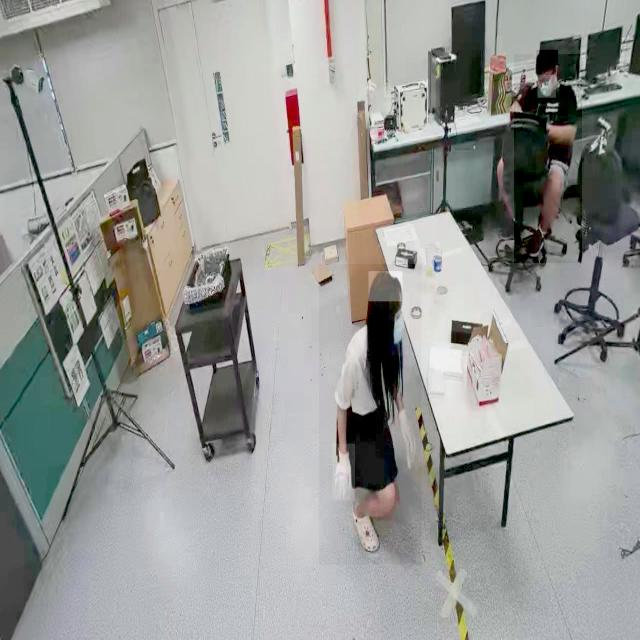face_mask: (389, 292, 409, 356), (537, 74, 556, 98)
hand_glove: (397, 398, 417, 473), (332, 444, 355, 502)
head_nohelmet: (368, 271, 402, 302), (536, 50, 558, 64)
person: (318, 264, 422, 565), (514, 54, 582, 264)
shoes: (528, 224, 549, 259)
